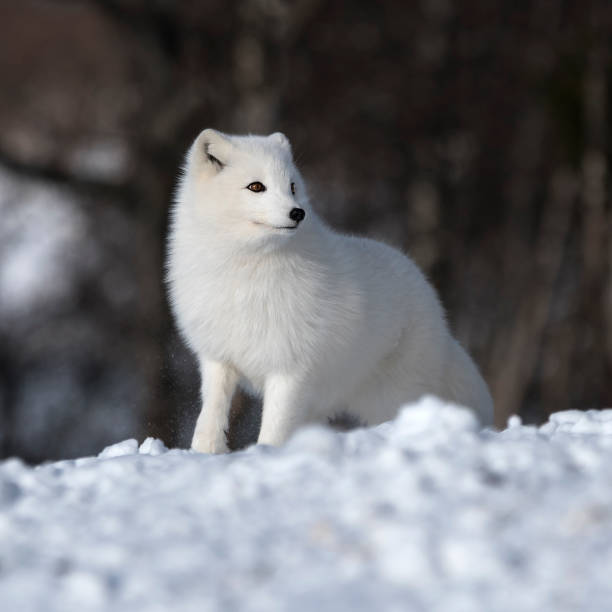arcticfox: (211, 139, 318, 253)
